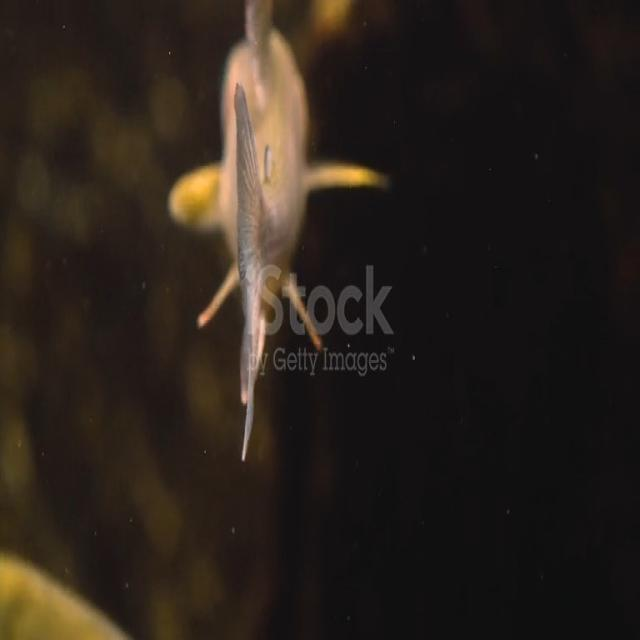fish: (166, 1, 387, 469)
